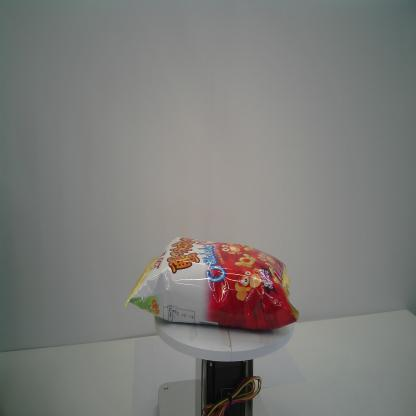Puffed Food: (122, 237, 300, 332)
